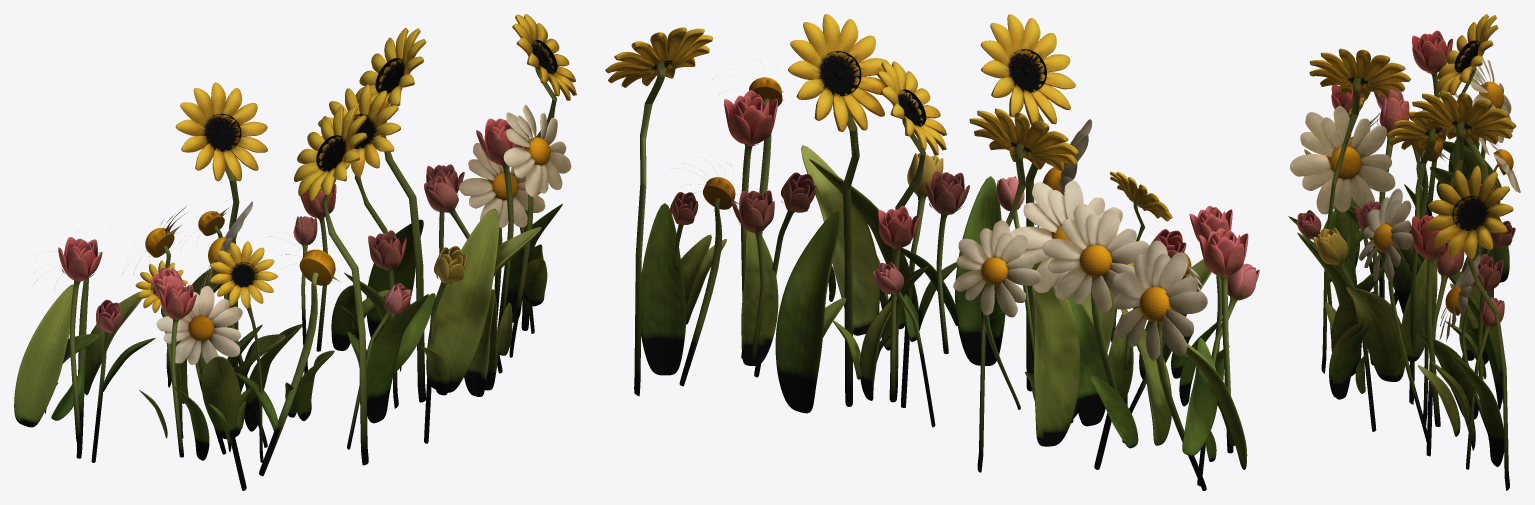
File: plants_gate.glb
3 renders of one model, left to right at view 1: azimuth 30°, elevation 25°; view 2: azimuth 150°, elevation 25°; view 3: azimuth 270°, elevation 25°, orthographic. The views are drawn at different scales.
Parts seen in each view (by area): view 1: V | 花草 · Gate-right bed; view 2: V | 花草 · Gate-right bed; view 3: V | 花草 · Gate-right bed.
Part boxes in pixels (<box>): V | 花草 · Gate-right bed: <box>14,14,576,490</box>; V | 花草 · Gate-right bed: <box>605,14,1259,490</box>; V | 花草 · Gate-right bed: <box>1288,14,1520,490</box>.
Bounding box in the file's own units: 2.74 × 1.76 × 1.02.
